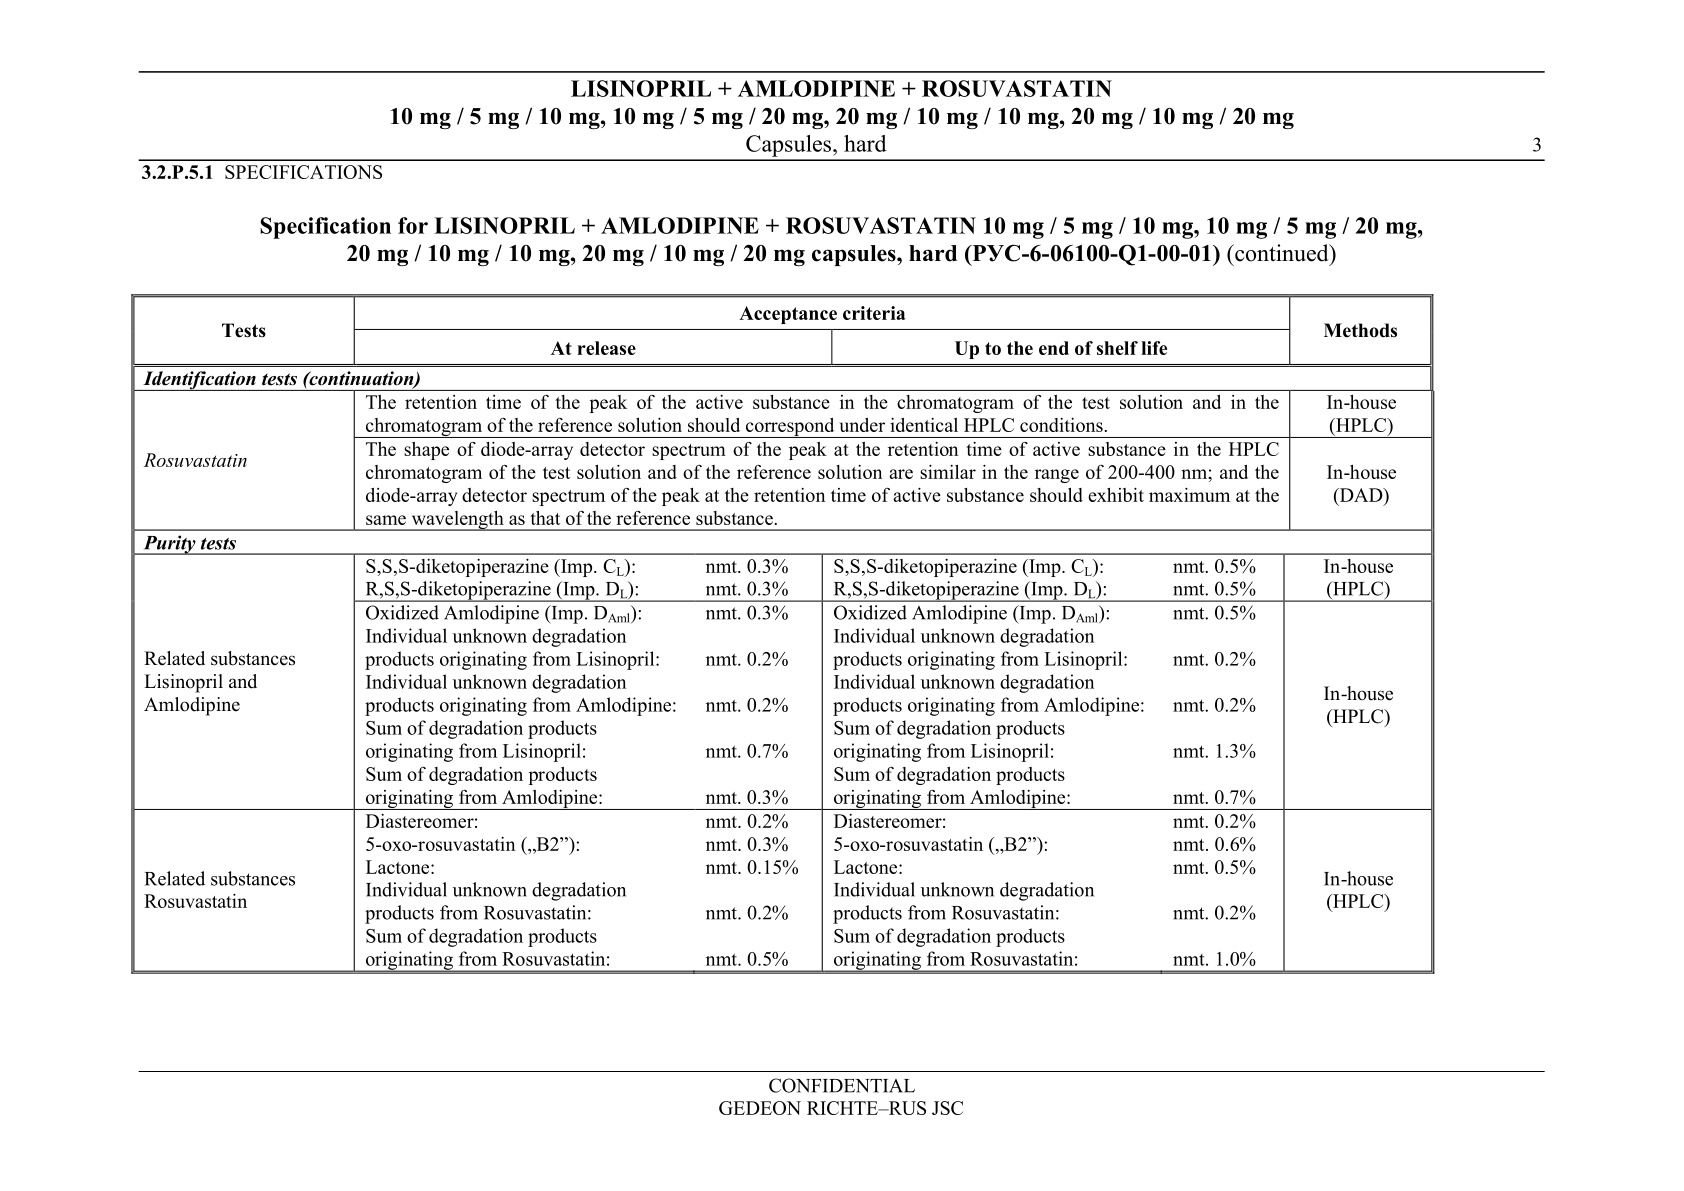merged_cells: (130, 293, 1435, 974)
